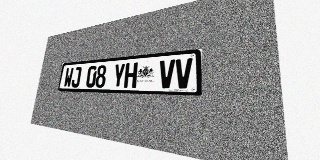0: (85, 65, 97, 88)
8: (95, 65, 107, 88)
H: (124, 62, 138, 88)
J: (71, 67, 82, 87)
V: (175, 58, 192, 88), (158, 59, 175, 88)
W: (63, 67, 74, 87)
Y: (112, 63, 126, 88)
